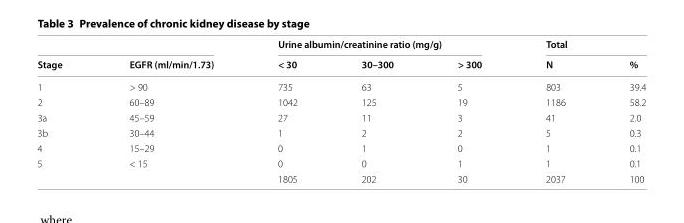table: (36, 37, 645, 184)
table column: (95, 37, 245, 184), (328, 37, 424, 184), (424, 37, 513, 184), (245, 37, 328, 184), (513, 37, 596, 184), (36, 37, 95, 184), (596, 37, 645, 184)
table column header: (36, 37, 645, 75)
table row: (36, 53, 645, 75), (36, 75, 645, 94), (36, 37, 645, 53), (36, 124, 645, 140), (36, 94, 645, 109), (36, 109, 645, 124), (36, 140, 645, 155), (36, 155, 645, 170), (36, 170, 645, 184)
table spanning cell: (95, 37, 245, 75), (245, 37, 513, 53), (36, 37, 95, 75), (513, 37, 645, 53), (36, 155, 95, 184)
